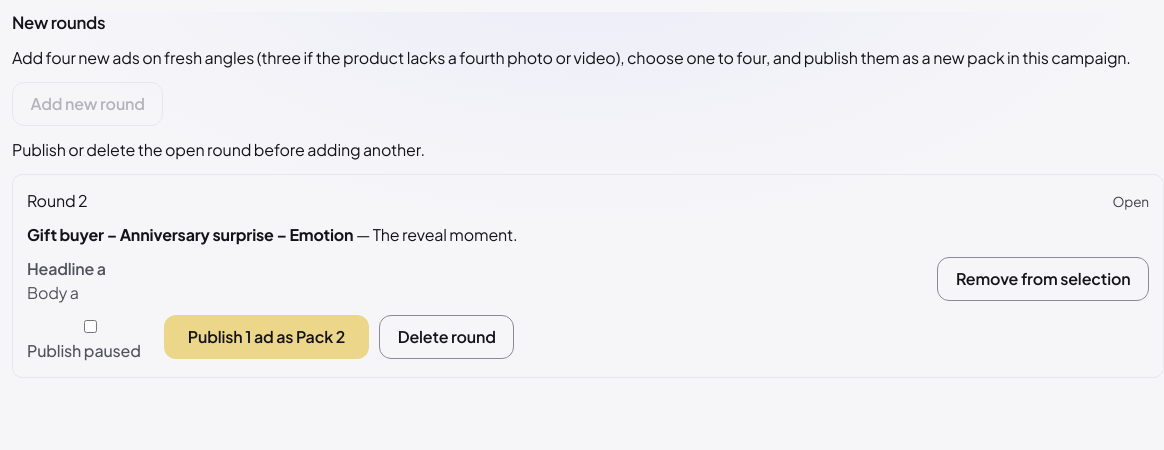
Test: CreativeRoundsPanel › falls back to a generic message when a failed publish gives no reason
Click the button "Publish 1 ad as Pack 2" at x=266, y=337, box [164,315,369,359]
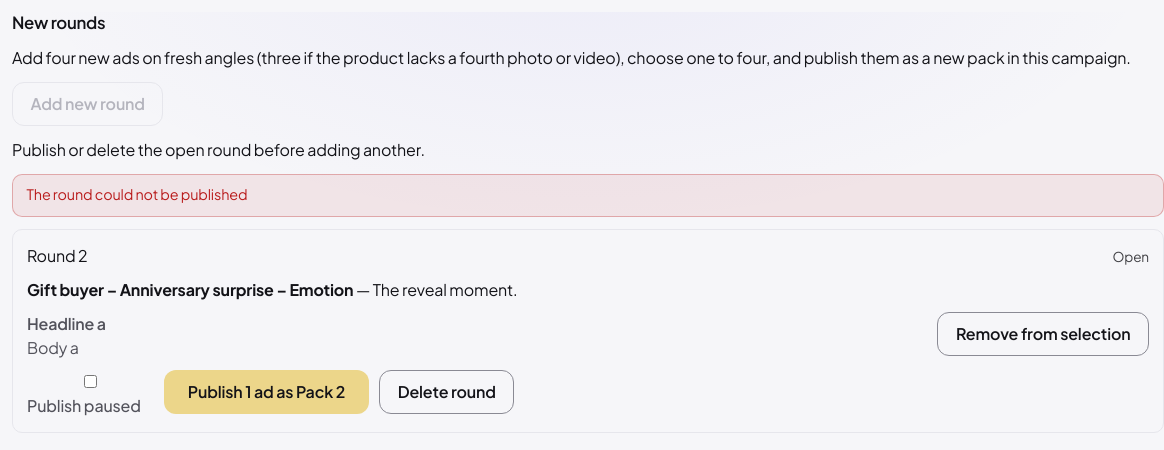
Expected: the message shows "could not be published", [27,185,247,203]
